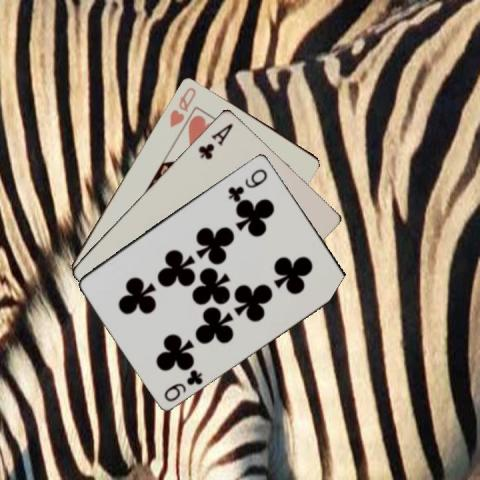9c: (160, 366, 204, 403), (225, 165, 269, 201)
Ac: (195, 119, 235, 161)
Qh: (167, 83, 197, 128)
